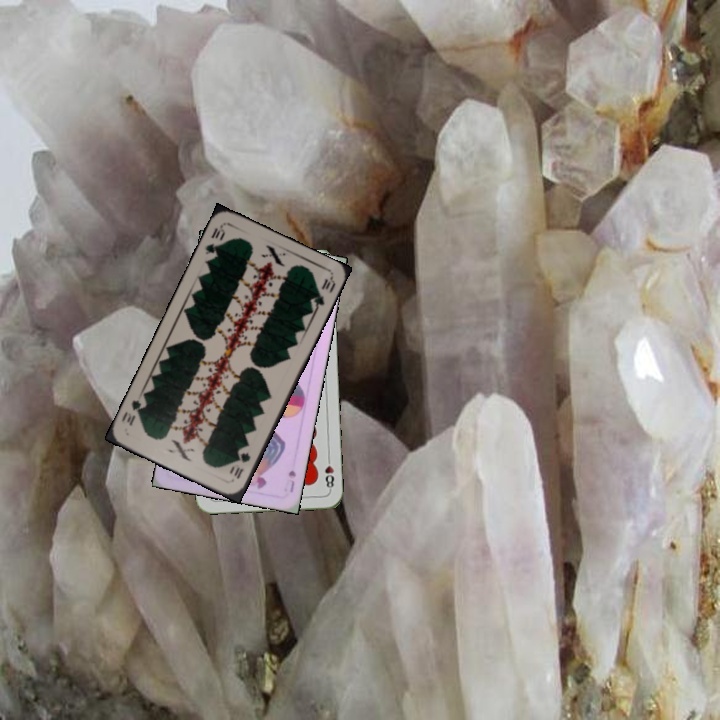G10: (201, 222, 228, 262), (230, 448, 253, 482)
H8: (321, 452, 337, 493)
SU: (280, 466, 298, 495)
